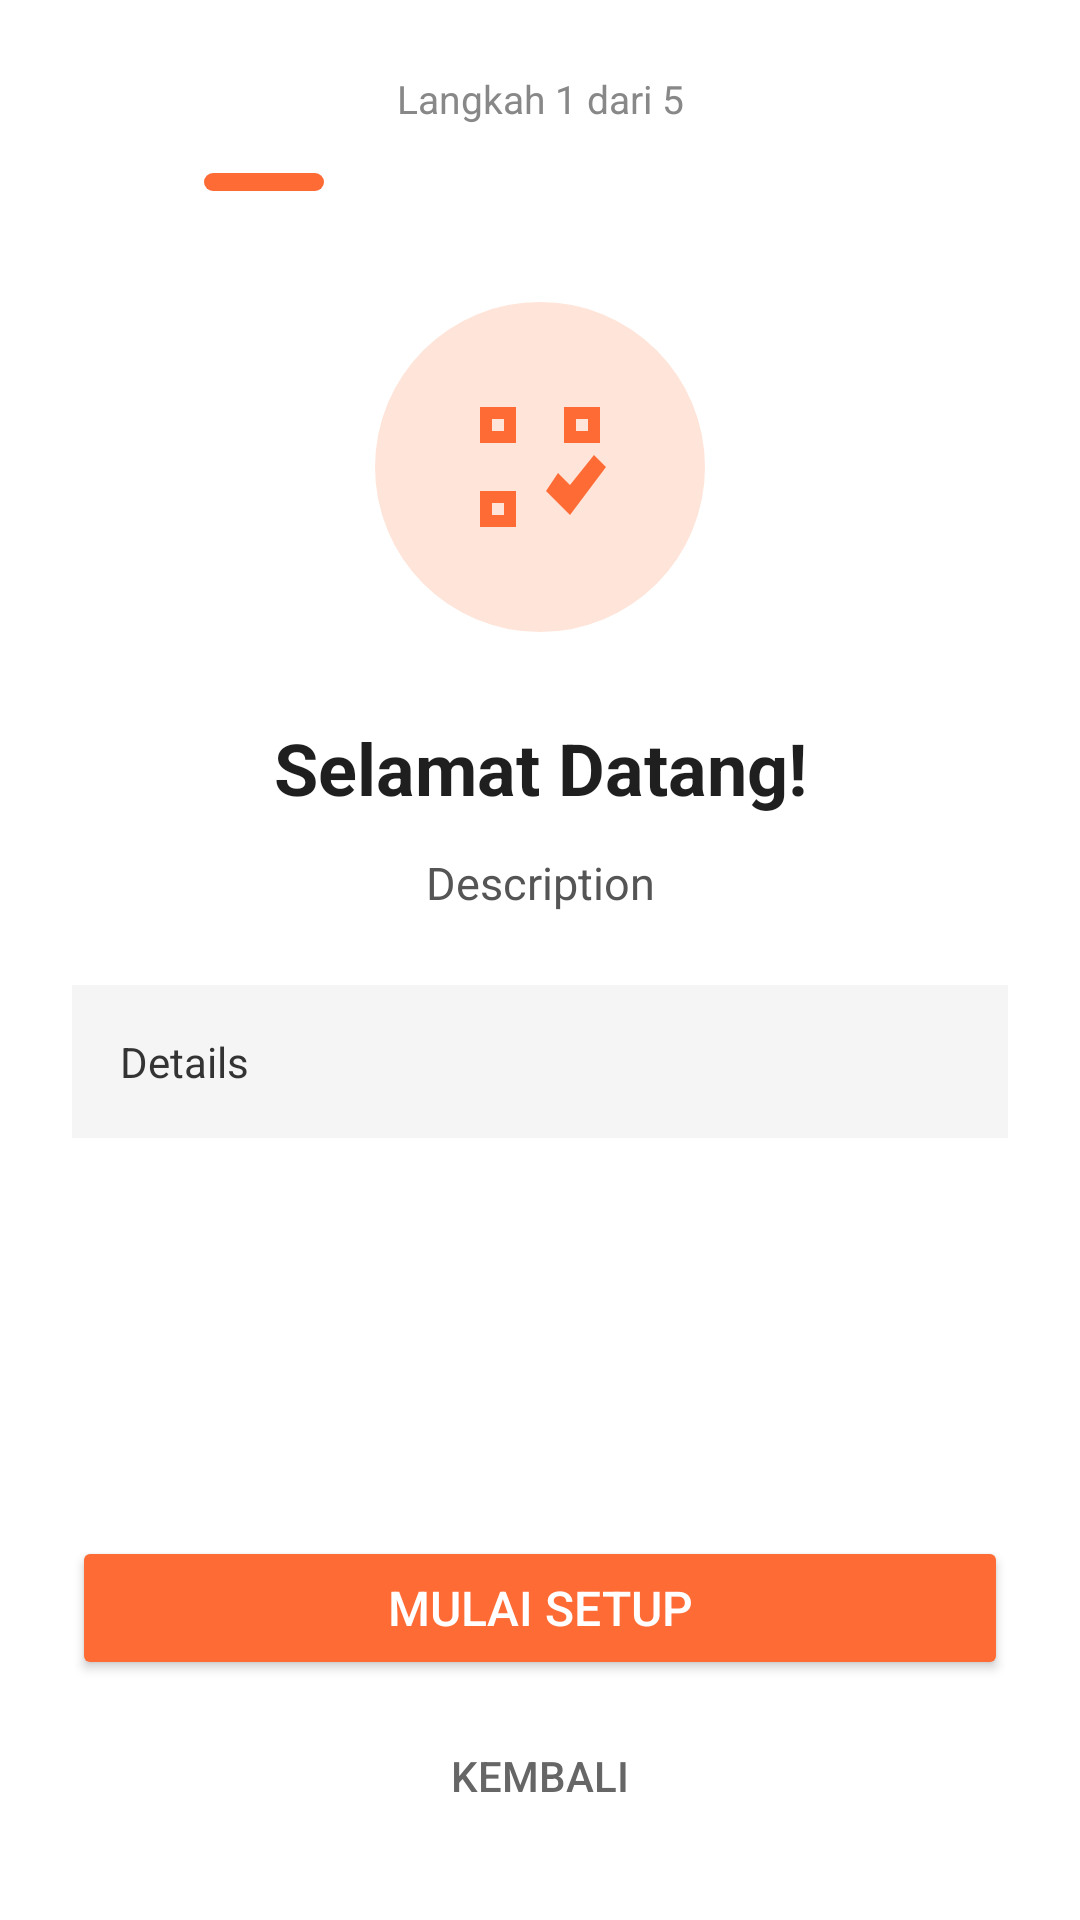

Icons on this 1080px x 1920px Android screen, each with its box as BBox(x1, y1, x2, y2):
Step icon: BBox(375, 302, 705, 632)
